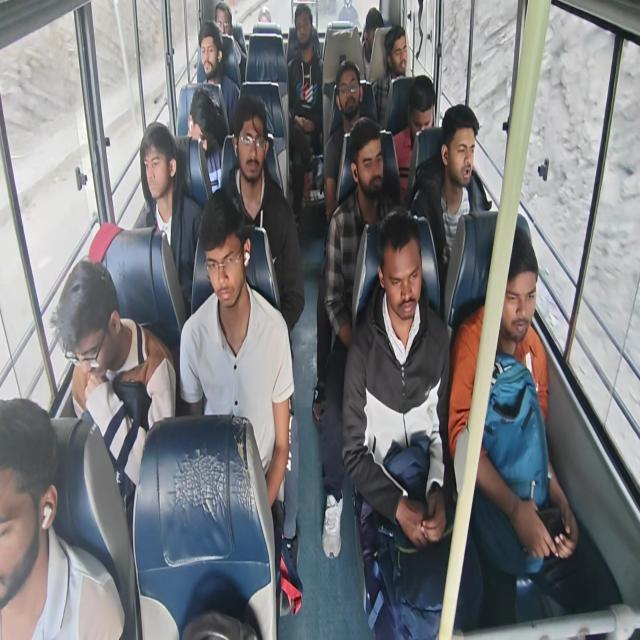person: (0, 400, 57, 586), (71, 242, 132, 385), (496, 236, 540, 354), (379, 227, 429, 327), (201, 202, 248, 300), (353, 136, 391, 202), (445, 112, 478, 184), (140, 136, 172, 196), (241, 113, 267, 184), (293, 6, 321, 59), (188, 97, 215, 150), (412, 86, 437, 139), (339, 71, 360, 118), (199, 36, 221, 79), (362, 11, 383, 53), (388, 36, 408, 73), (213, 3, 230, 42)
